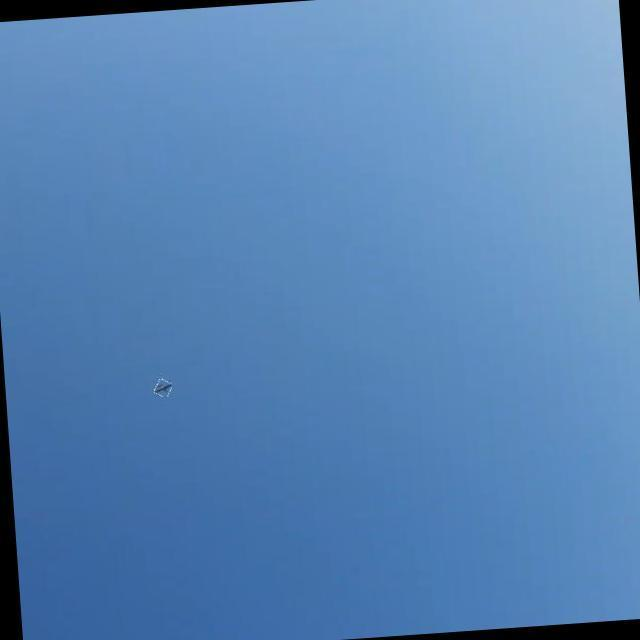iha: (143, 360, 183, 400)
